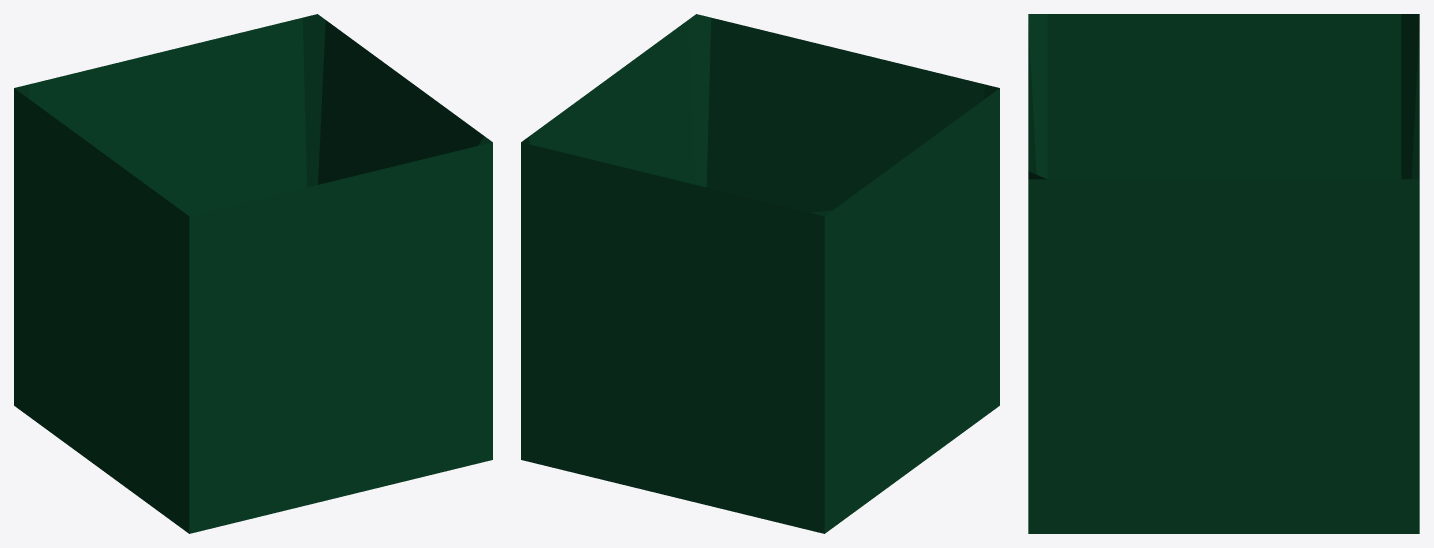
Rendered from gereedschapbak.fbx.
The picture shows the model from 3 angles, left to right: view 1: azimuth 30°, elevation 25°; view 2: azimuth 150°, elevation 25°; view 3: azimuth 270°, elevation 25°; orthographic projection. The views are drawn at different scales.
Visible parts, largest first — view 1: Cube; view 2: Cube; view 3: Cube.
Boxes of the visible parts, bbox=[...] form: Cube: bbox=[14, 14, 492, 533]; Cube: bbox=[521, 14, 999, 533]; Cube: bbox=[1028, 14, 1419, 533].
Size of the model in its own units: 200 by 200 by 200.
